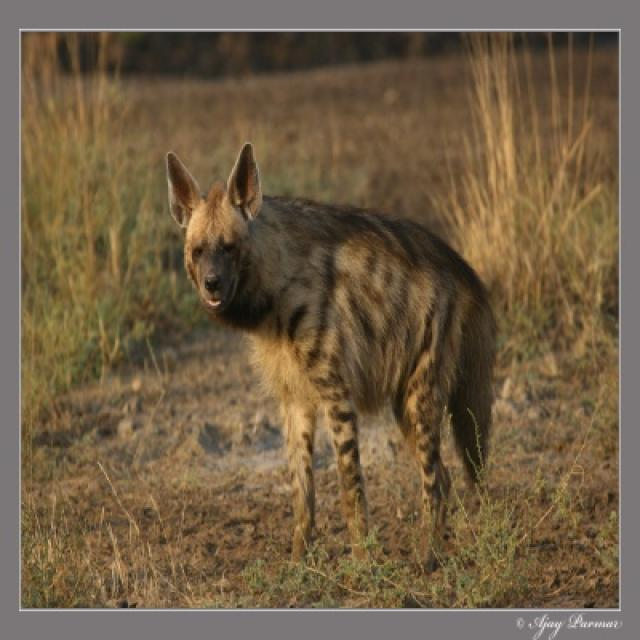hyena: (165, 144, 499, 560)
